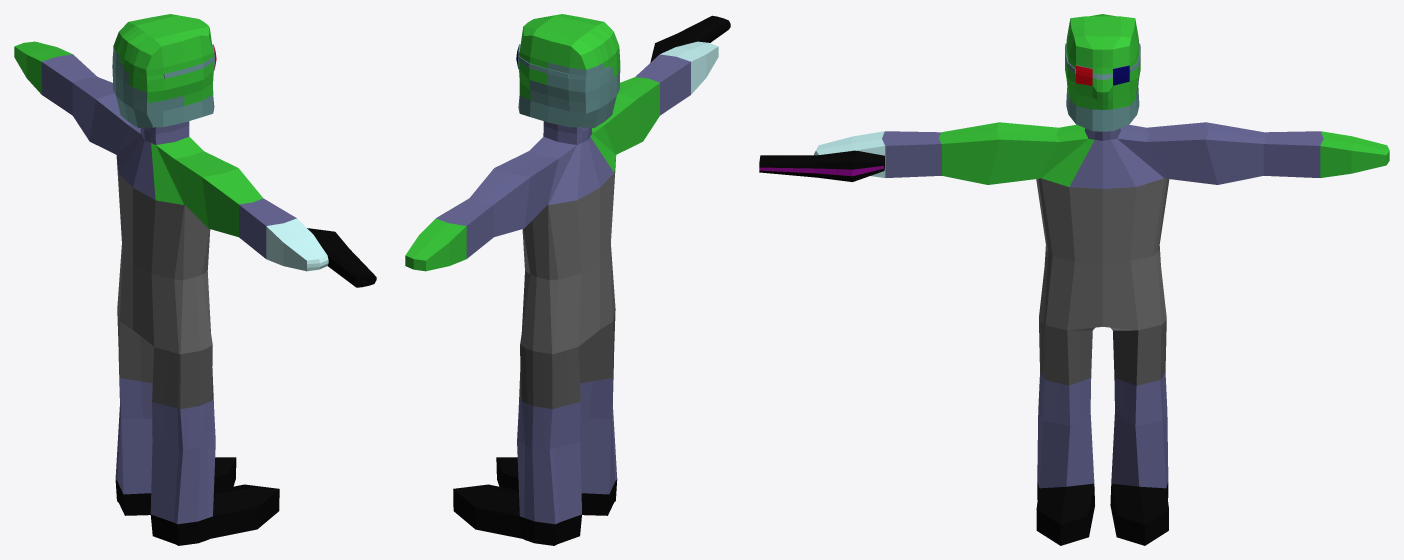
The model's file is blockman v1 Cyborg.fbx.
The picture shows the model from 3 angles, left to right: view 1: azimuth 30°, elevation 25°; view 2: azimuth 150°, elevation 25°; view 3: azimuth 270°, elevation 25°; orthographic projection. The views are drawn at different scales.
Visible parts, largest first — view 1: head, right shin, pelvis, torso, right arm, right foot, right hand, left shin, right shoulder, right leg, left arm, left shoulder (+4 smaller); view 2: head, left shin, pelvis, torso, left arm, left foot, right shin, left shoulder, left leg, right arm, right hand, left hand (+4 smaller); view 3: torso, pelvis, head, left shin, right shin, left arm, right arm, left shoulder, right shoulder, right hand, right foot, left foot (+4 smaller).
Boxes of the visible parts, x1=… form: head: x1=112, y1=14, x2=216, y2=127; right shin: x1=150, y1=393, x2=215, y2=524; pelvis: x1=117, y1=245, x2=212, y2=354; torso: x1=116, y1=158, x2=210, y2=280; right arm: x1=202, y1=168, x2=296, y2=258; right foot: x1=150, y1=484, x2=279, y2=545; right hand: x1=266, y1=218, x2=376, y2=287; left shin: x1=115, y1=367, x2=152, y2=494; right shoulder: x1=151, y1=136, x2=238, y2=227; right leg: x1=152, y1=345, x2=213, y2=408; left arm: x1=41, y1=54, x2=114, y2=140; left shoulder: x1=89, y1=93, x2=142, y2=172; head: x1=516, y1=14, x2=620, y2=127; left shin: x1=517, y1=389, x2=581, y2=524; pelvis: x1=520, y1=244, x2=615, y2=354; torso: x1=522, y1=159, x2=615, y2=280; left arm: x1=436, y1=168, x2=530, y2=258; left foot: x1=453, y1=484, x2=581, y2=545; right shin: x1=580, y1=365, x2=617, y2=494; left shoulder: x1=494, y1=136, x2=581, y2=227; left leg: x1=519, y1=345, x2=580, y2=408; right arm: x1=618, y1=54, x2=690, y2=141; right hand: x1=650, y1=15, x2=730, y2=94; left hand: x1=405, y1=218, x2=466, y2=271; torso: x1=1036, y1=178, x2=1169, y2=262; pelvis: x1=1039, y1=246, x2=1166, y2=330; head: x1=1065, y1=14, x2=1140, y2=131; left shin: x1=1111, y1=372, x2=1168, y2=488; right shin: x1=1037, y1=372, x2=1094, y2=488; left arm: x1=1205, y1=122, x2=1323, y2=184; right arm: x1=882, y1=122, x2=999, y2=184; left shoulder: x1=1111, y1=122, x2=1217, y2=186; right shoulder: x1=988, y1=122, x2=1094, y2=186; right hand: x1=759, y1=131, x2=885, y2=181; right foot: x1=1036, y1=482, x2=1094, y2=545; left foot: x1=1110, y1=482, x2=1168, y2=545.
Size of the model in its own units: 322 by 1125 by 1344.
